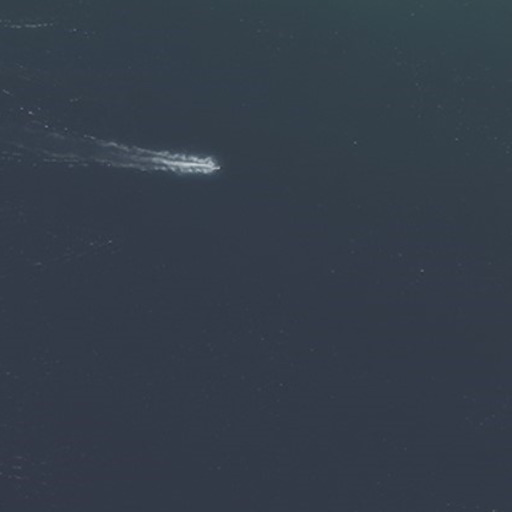ship: (186, 152, 223, 177)
